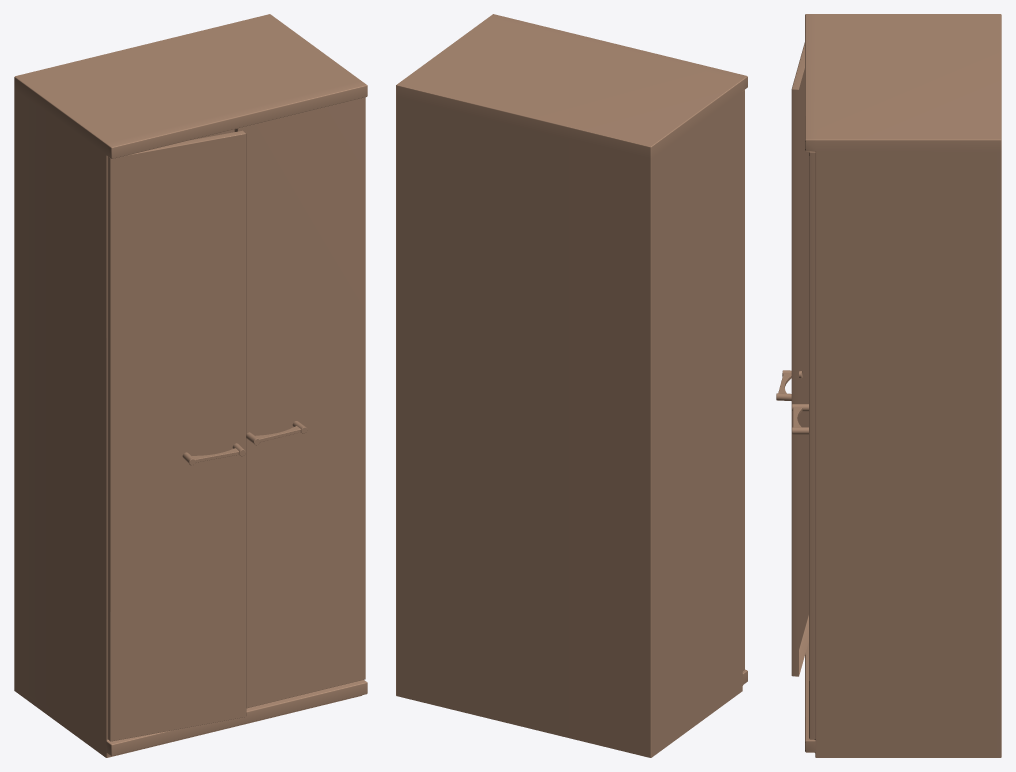
Rendered from cupboard.fbx.
3 renders of one model, left to right at view 1: azimuth 30°, elevation 25°; view 2: azimuth 150°, elevation 25°; view 3: azimuth 270°, elevation 25°, orthographic.
Parts seen in each view (by area): view 1: wardrobe; view 2: wardrobe; view 3: wardrobe.
Part boxes in pixels (box(x1,y1,x2,y2)): wardrobe: box(14, 14, 367, 757); wardrobe: box(396, 14, 747, 757); wardrobe: box(776, 14, 1001, 757).
Size of the model in its own units: 80 by 183 by 60.45.
